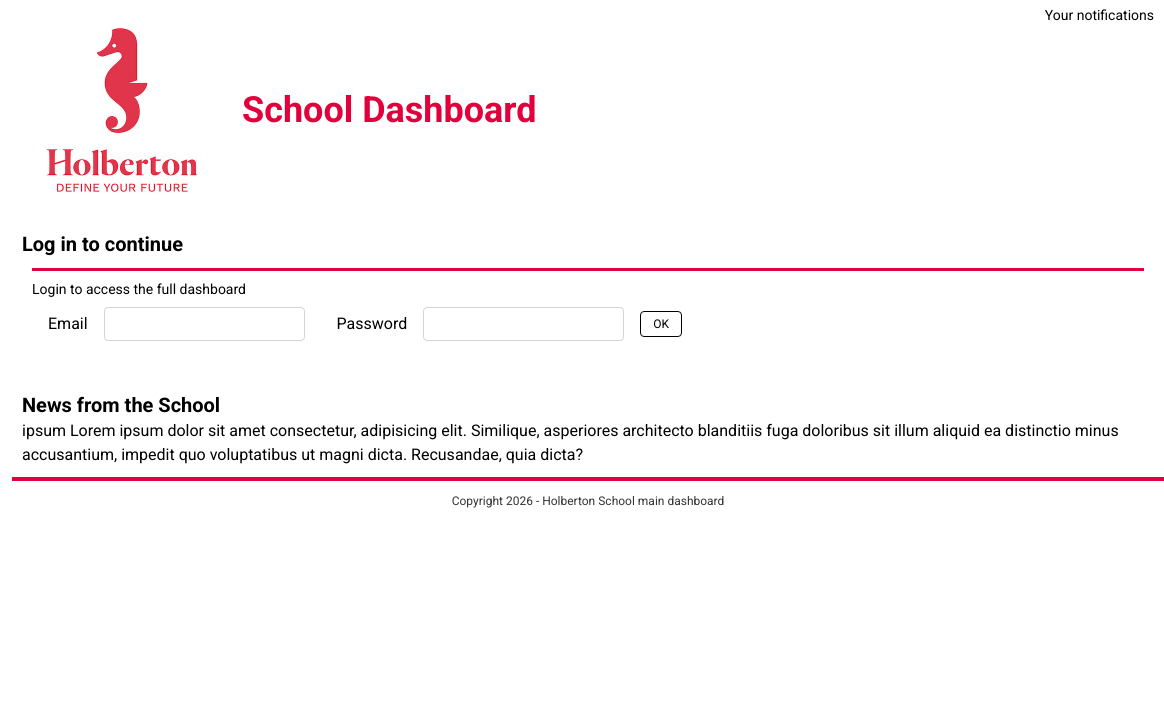
App (Task 2 & 3) - login/logout state › renders CourseList and logoutSection after successful login
The image size is (1164, 720).
Step 1. Type "test@example.com" into the field labelled "Email" → {"x": 204, "y": 324}, box [104,307,305,341]
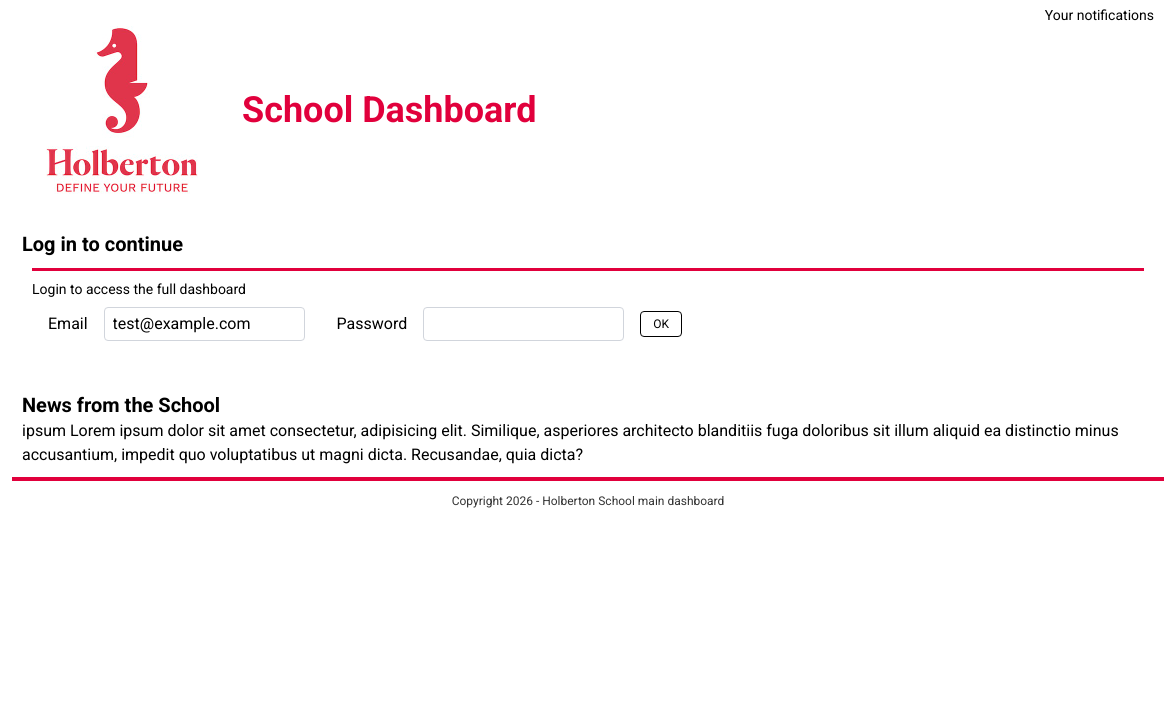
Step 2. Type "password123" into the password field labelled "Password" → {"x": 524, "y": 324}, box [423,307,624,341]
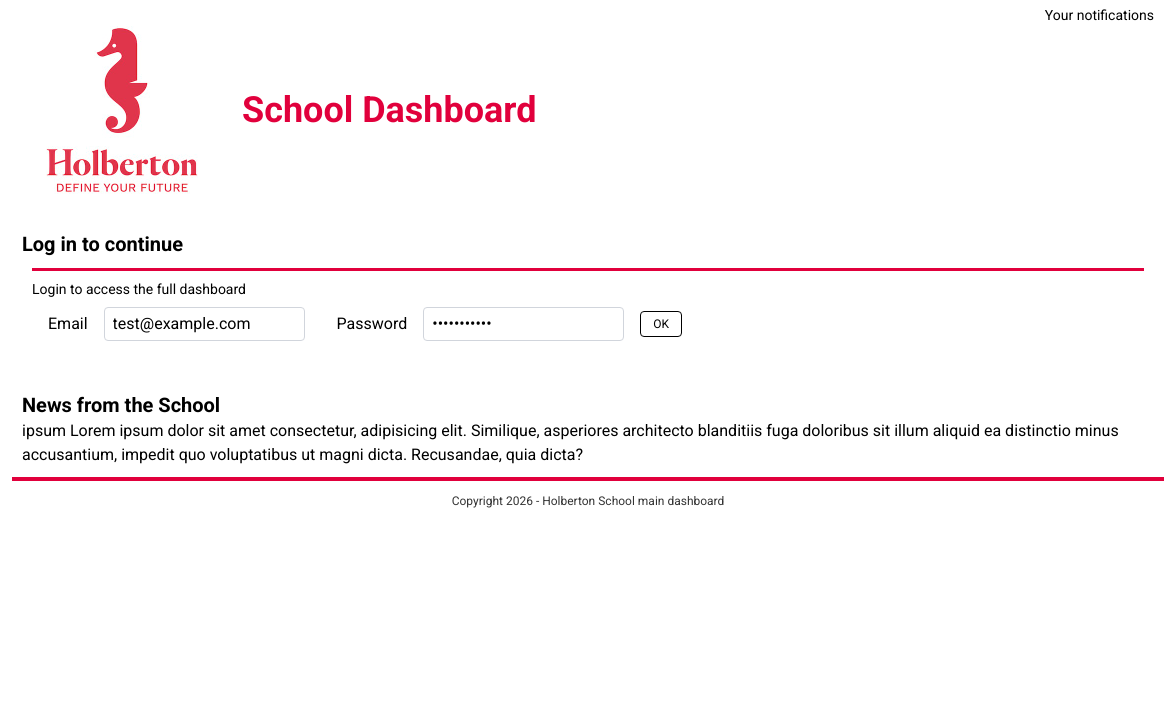
Step 3. Click the button "OK" → {"x": 661, "y": 324}, box [640,311,682,337]
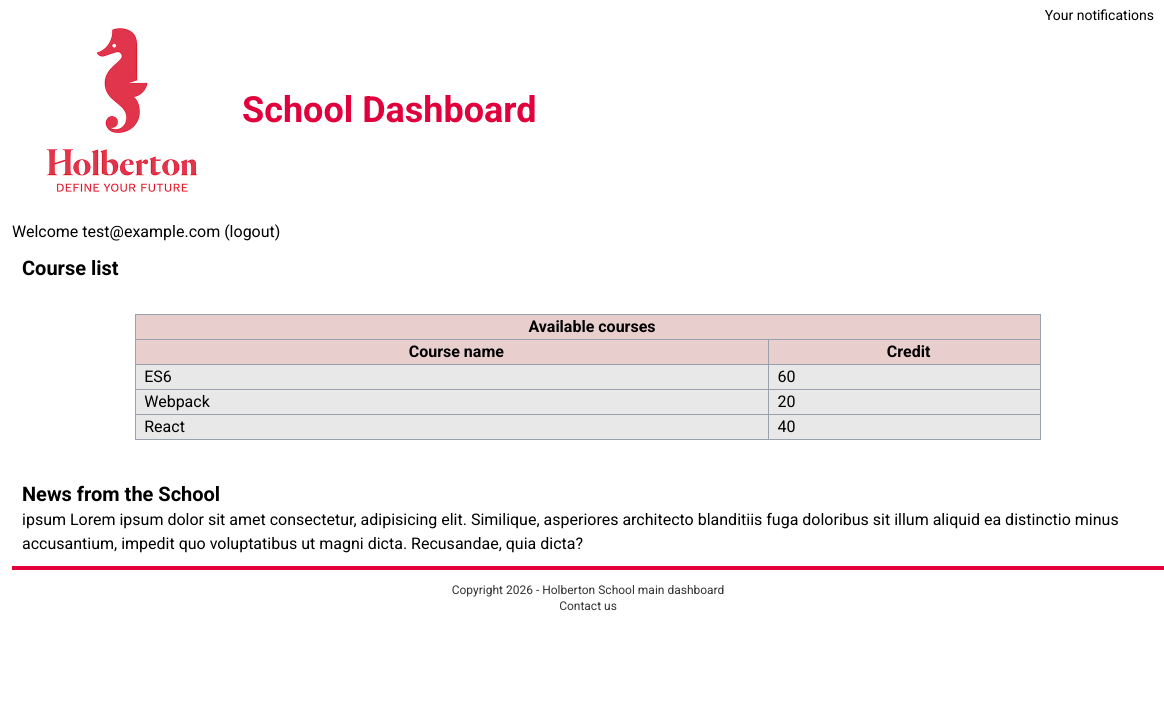
Check: the table with id "CourseList" is shown, box [135,314,1041,440]
Check: the label labelled "Email" is gone
Check: the text "Welcome test@example.com ( logout )" is shown, box [12,222,280,241]
